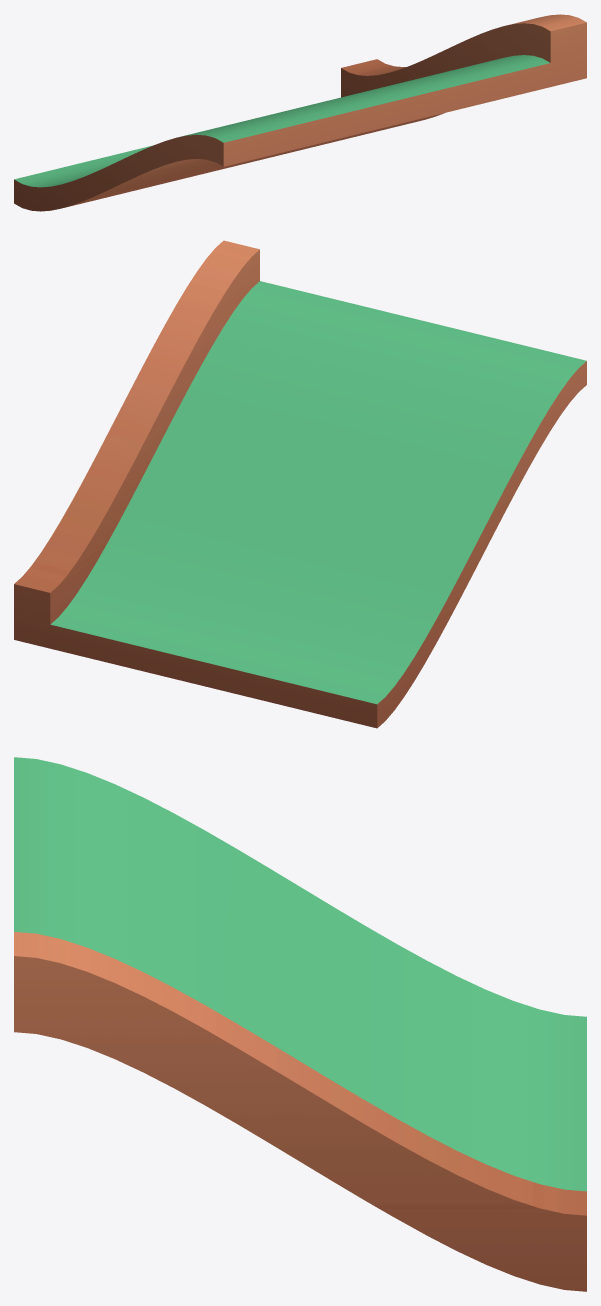
File: ramp-side.glb
3 views of the same model, one above another, from view 1: azimuth 30°, elevation 25°; view 2: azimuth 150°, elevation 25°; view 3: azimuth 270°, elevation 25° (orthographic). The views are drawn at different scales.
Parts seen in each view (by area): view 1: ramp-side; view 2: ramp-side; view 3: ramp-side.
Boxes of the visible parts, x1,y1,x2,y2 form: ramp-side: (14,14,586,211); ramp-side: (14,240,586,728); ramp-side: (14,757,586,1291).
Bounding box in the file's own units: 0.9999 × 0.6466 × 0.9999.
Materials: 1 (1 with a texture image).
